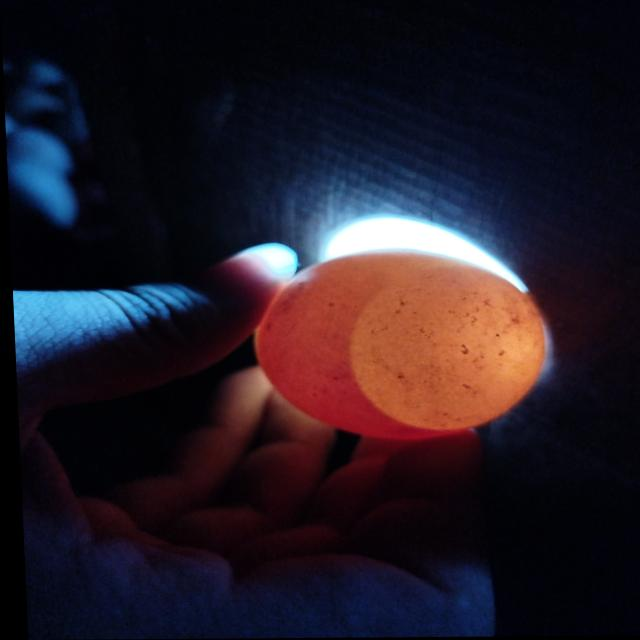Camara de Ar: (350, 259, 541, 429)
Gema Quebrada: (251, 252, 490, 442)
